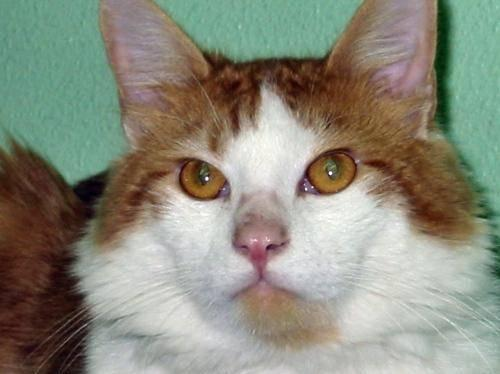cat: (72, 0, 500, 374)
